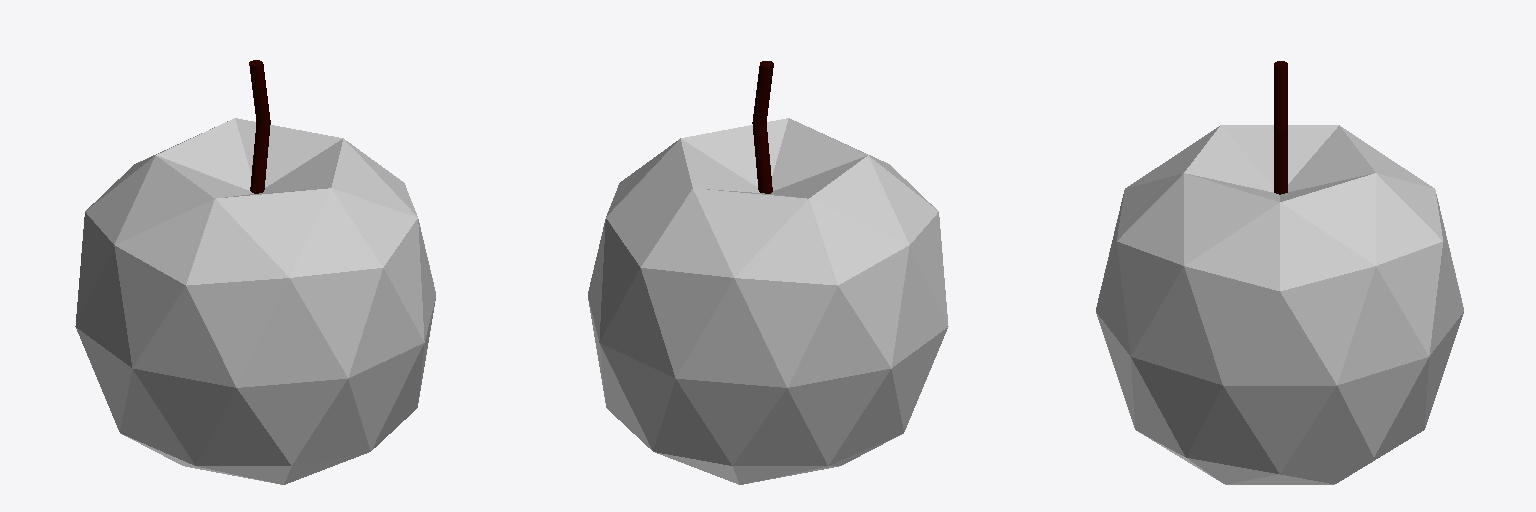
Rendered from golden-apple.obj.
3 views of the same model, side by side, from view 1: azimuth 30°, elevation 25°; view 2: azimuth 150°, elevation 25°; view 3: azimuth 270°, elevation 25° (orthographic).
Parts seen in each view (by area): view 1: Icosphere, Cylinder; view 2: Icosphere, Cylinder; view 3: Icosphere, Cylinder.
Part boxes in pixels (x1,y1,x2,y2): Icosphere: (75, 118, 435, 484); Cylinder: (249, 60, 270, 193); Icosphere: (588, 118, 948, 484); Cylinder: (752, 61, 773, 193); Icosphere: (1096, 125, 1463, 484); Cylinder: (1274, 61, 1287, 194).
Bounding box in the file's own units: 1.96 × 2.37 × 2.06.